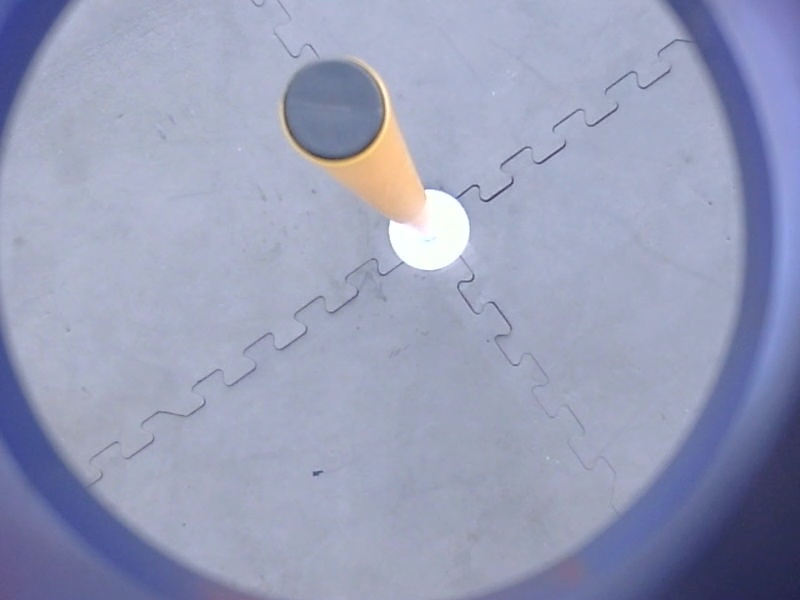tip: (274, 47, 393, 169)
